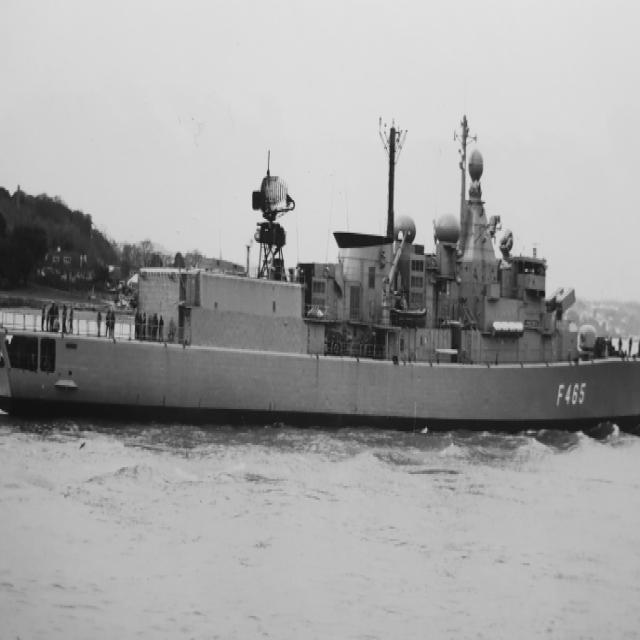Fragata: (1, 107, 640, 434)
